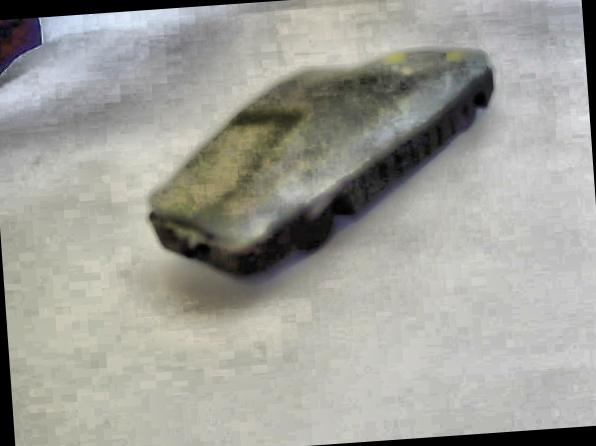normal_car: (120, 30, 520, 296)
